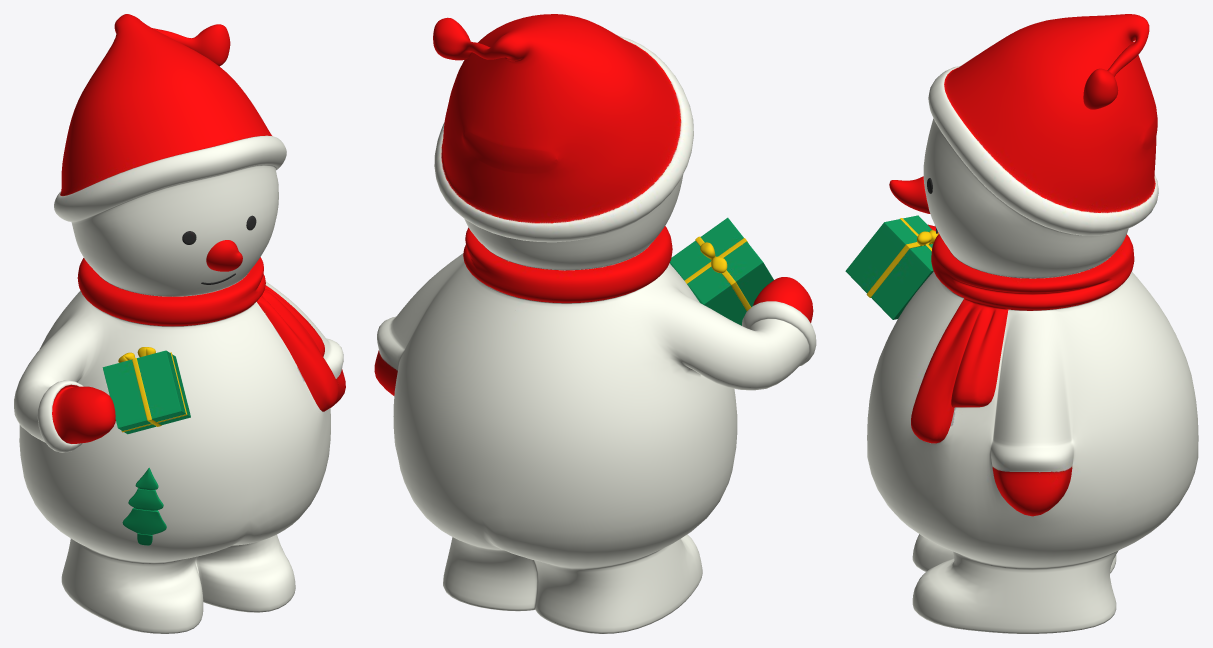
Rendered from testNew.fbx.
3 renders of one model, left to right at view 1: azimuth 30°, elevation 25°; view 2: azimuth 150°, elevation 25°; view 3: azimuth 270°, elevation 25°, orthographic. The views are drawn at different scales.
Visible parts, largest first — view 1: Obj3d66-1069874-16-456; view 2: Obj3d66-1069874-16-456; view 3: Obj3d66-1069874-16-456.
Boxes of the visible parts, x1,y1,x2,y2 form: Obj3d66-1069874-16-456: (14, 14, 345, 633); Obj3d66-1069874-16-456: (374, 14, 816, 633); Obj3d66-1069874-16-456: (845, 14, 1198, 633).
Bounding box in the file's own units: 130 × 191 × 107.
